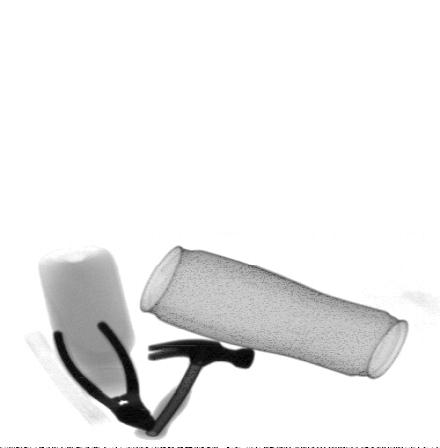Hammer: (135, 339, 257, 441)
Pliers: (52, 321, 158, 432)
